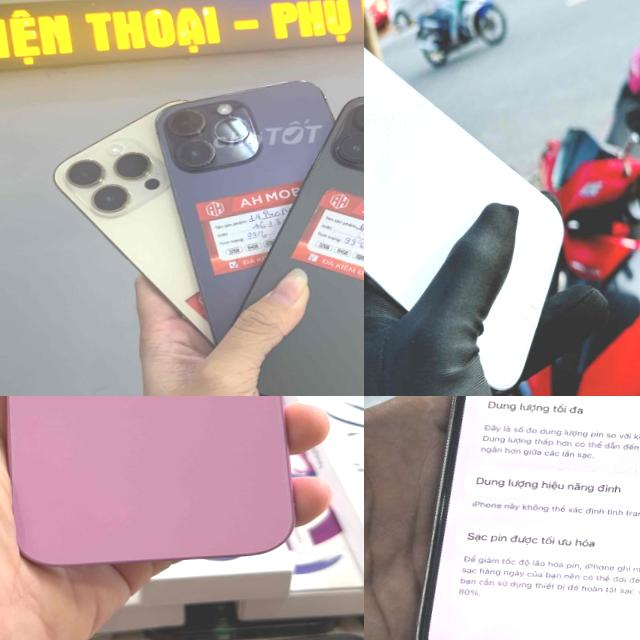gen_12_13: (364, 47, 563, 389)
gen_14: (0, 145, 341, 396), (383, 396, 640, 640), (243, 97, 364, 396)
gen_16: (0, 396, 312, 581)
